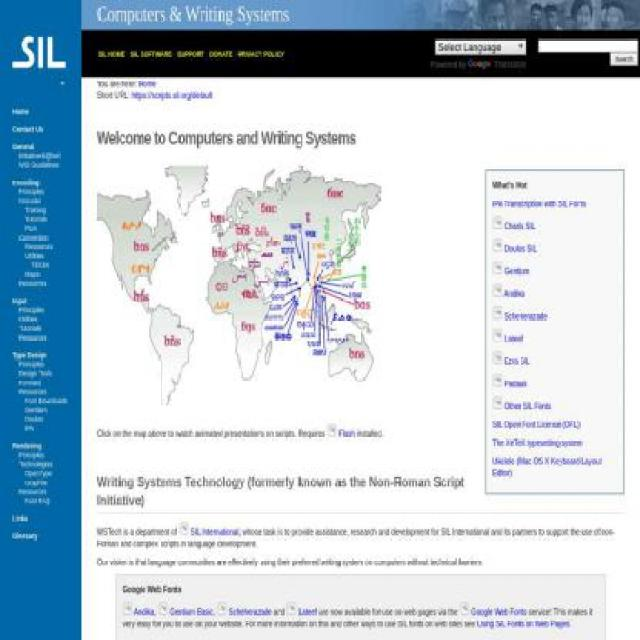field: (435, 39, 527, 55), (538, 39, 638, 53), (610, 52, 638, 66)
